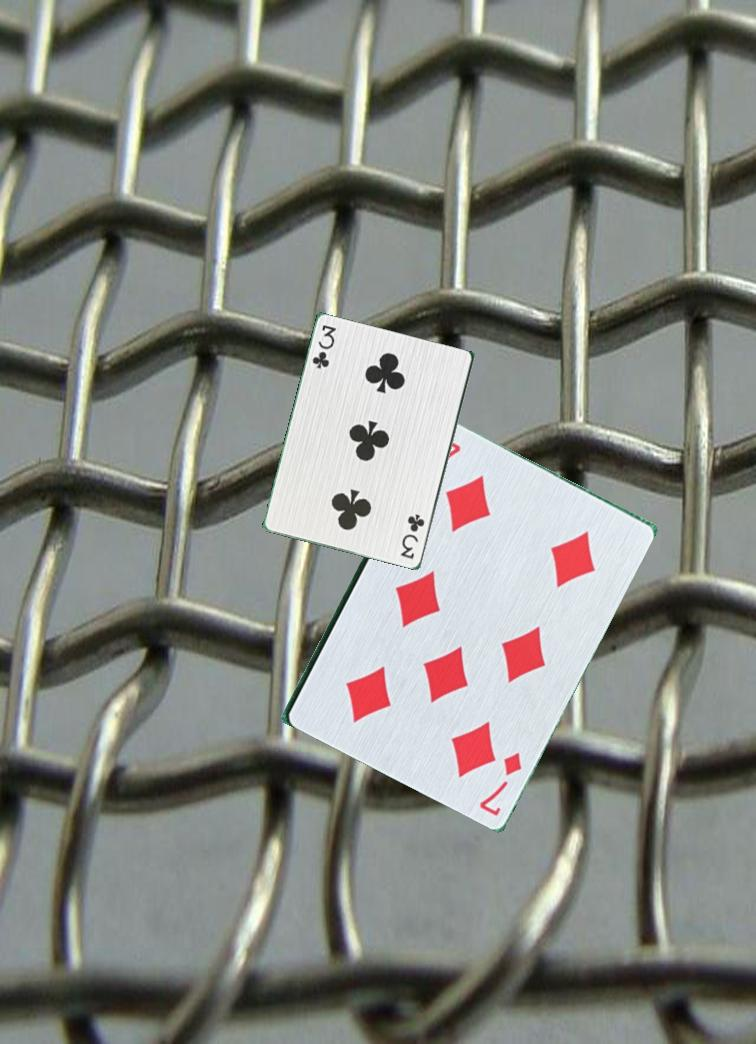3c: (397, 505, 428, 562), (309, 322, 339, 378)
7d: (475, 739, 529, 825)
